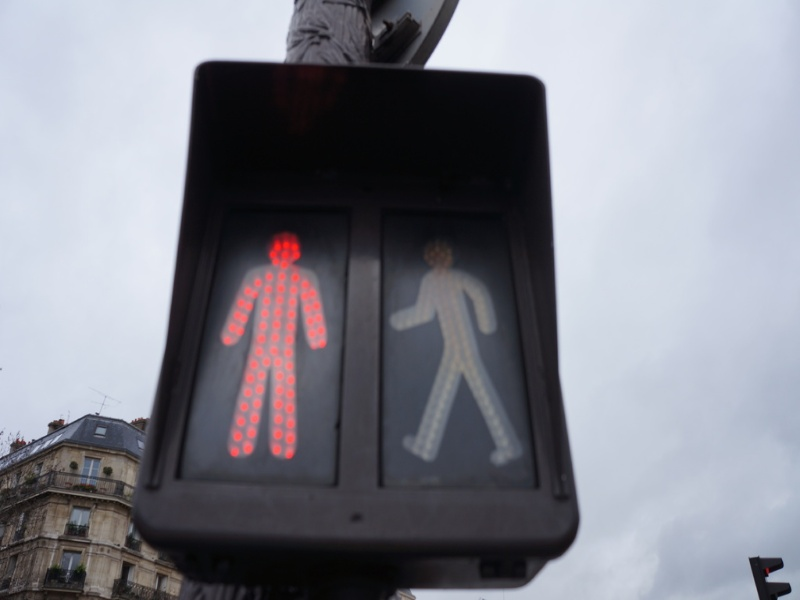pedestrian_crossing_red: (189, 156, 370, 474)
